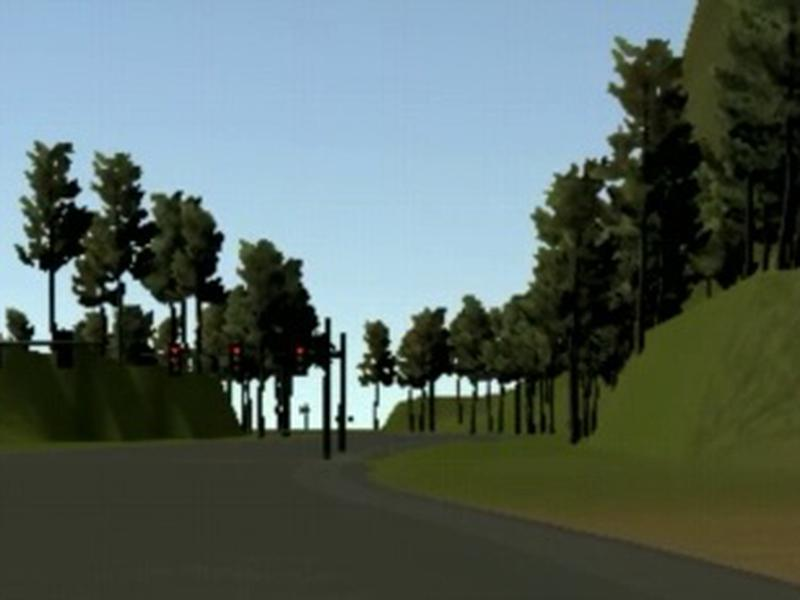Red: (167, 344, 182, 377), (230, 344, 242, 374), (294, 346, 306, 375)
